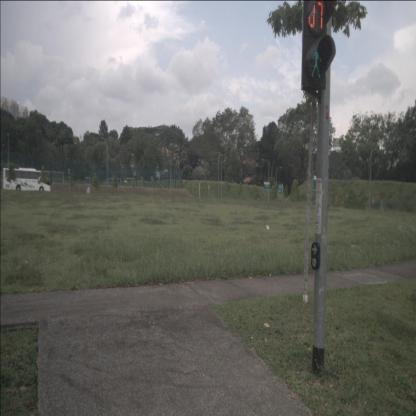vehicle-bus-rigid: (2, 168, 51, 192)
